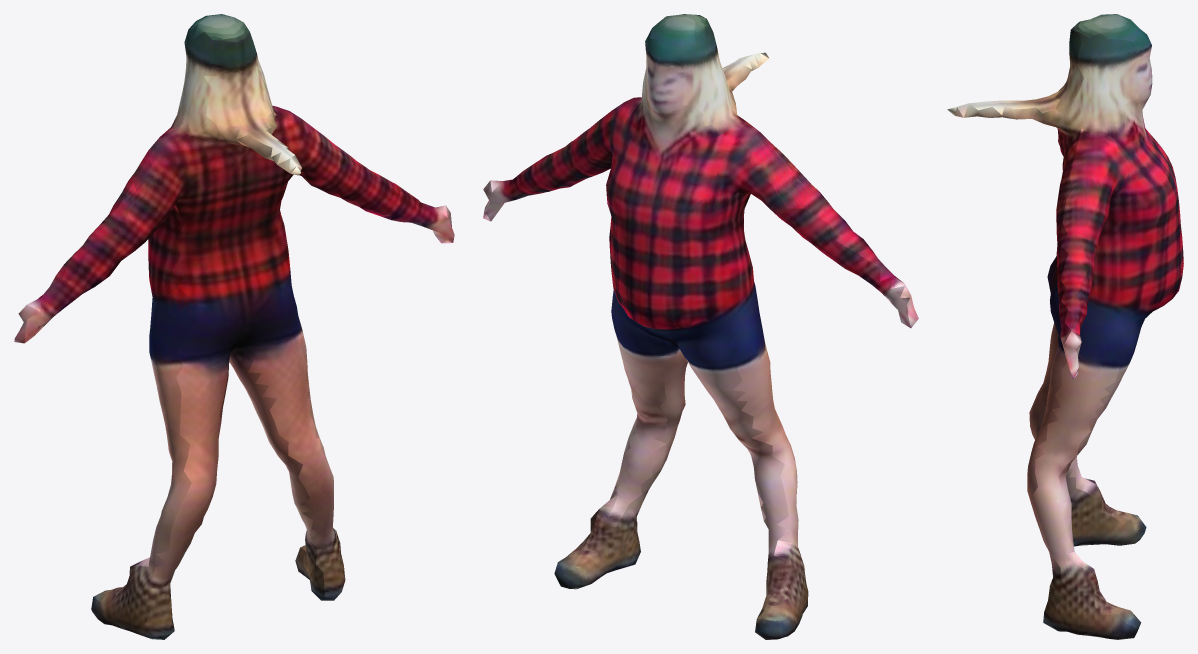
3 views of the same model, side by side, from view 1: azimuth 30°, elevation 25°; view 2: azimuth 150°, elevation 25°; view 3: azimuth 270°, elevation 25° (orthographic). The views are drawn at different scales.
Visible parts, largest first — view 1: world; view 2: world; view 3: world.
Boxes of the visible parts, box(x1,y1,x2,y2) form: world: box(14, 14, 454, 639); world: box(483, 14, 918, 639); world: box(947, 14, 1183, 639).
Bounding box in the file's own units: 0.7932 × 1.01 × 0.3808.
Materials: 1 (1 with a texture image).
